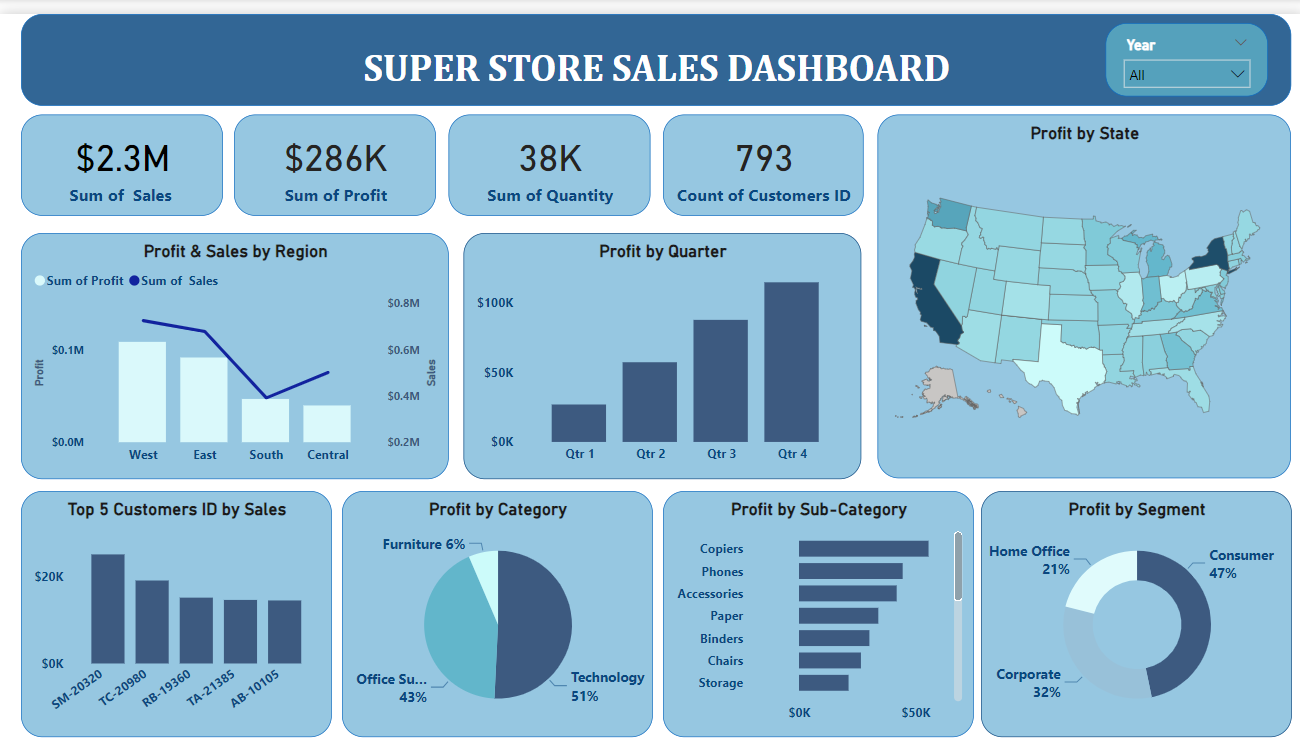

The page's visual inventory and layout, read from the dashboard file:
{"tool":"powerbi","page":{"name":"Duplicate of Page 1","canvas":[1280,720],"ordinal":0},"visuals":[{"type":"pieChart","title":"Profit by Category","fields":{"Y":["Sum(Sheet1.Profit)"],"Category":["Sheet1.Category"]},"box":[334.9,467.1,304.7,241.4],"z":0},{"type":"textbox","box":[20.6,0,1245.6,89.7],"z":1000},{"type":"shapeMap","title":"Profit by State","fields":{"Value":["Sum(Sheet1.Profit)"],"Category":["Sheet1.State"]},"box":[860.8,99.2,405.3,356.4],"z":2000},{"type":"donutChart","title":"Profit by Segment","fields":{"Y":["Sum(Sheet1.Profit)"],"Category":["Sheet1.Segment"]},"box":[961.4,467.1,304.7,241.4],"z":3000},{"type":"lineClusteredColumnComboChart","title":"Profit & Sales  by Region","fields":{"Y":["Sum(Sheet1.Profit)"],"Category":["Sheet1.Region"],"Y2":["Sum(Sheet1. Sales )"]},"box":[20.1,214.1,419.6,241.4],"z":4000},{"type":"clusteredBarChart","title":"Profit by Sub-Category","fields":{"Y":["Sum(Sheet1.Profit)"],"Category":["Sheet1.SubCategory"]},"box":[649.6,467.1,304.7,241.4],"z":5000},{"type":"slicer","fields":{"Values":["Sheet1.OrderDate.Variation.Date Hierarchy.Year"]},"box":[1083.6,8.6,159.5,71.9],"z":6000},{"type":"card","fields":{"Values":["Sum(Sheet1. Sales )"]},"box":[20.1,99.2,198.3,99.2],"z":7000},{"type":"card","fields":{"Values":["Sum(Sheet1.Profit)"]},"box":[229.9,99.2,198.3,99.2],"z":8000},{"type":"card","fields":{"Values":["Count(Sheet1.CustomerID)"]},"box":[649.6,99.2,196.9,99.2],"z":9000},{"type":"card","fields":{"Values":["Sum(Sheet1.Quantity)"]},"box":[439.8,99.2,198.3,99.2],"z":10000},{"type":"clusteredColumnChart","title":"Profit by Quarter","fields":{"Y":["Sum(Sheet1.Profit)"],"Category":["Sheet1.OrderDate.Variation.Date Hierarchy.Quarter"]},"box":[454.4,214.7,389.7,241.2],"z":11000},{"type":"lineClusteredColumnComboChart","title":"Top 5 Customers ID by Sales","fields":{"Category":["Sheet1.CustomerID"],"Y":["Sum(Sheet1. Sales )"]},"box":[20.1,467.1,304.7,241.4],"z":12000}]}

Visuals, with their boxes in screenshot pixels (x1, y1, x2, y2), scaled from the page's 1280x720 canvas onto the 1300x747 screenshot:
"Profit by Category" pieChart: x1=340, y1=485, x2=650, y2=735
textbox: x1=21, y1=0, x2=1286, y2=93
"Profit by State" shapeMap: x1=874, y1=103, x2=1286, y2=473
"Profit by Segment" donutChart: x1=976, y1=485, x2=1286, y2=735
"Profit & Sales  by Region" lineClusteredColumnComboChart: x1=20, y1=222, x2=447, y2=473
"Profit by Sub-Category" clusteredBarChart: x1=660, y1=485, x2=969, y2=735
slicer - Sheet1.OrderDate.Variation.Date Hierarchy.Year: x1=1101, y1=9, x2=1263, y2=84
card - Sum(Sheet1. Sales ): x1=20, y1=103, x2=222, y2=206
card - Sum(Sheet1.Profit): x1=233, y1=103, x2=435, y2=206
card - Count(Sheet1.CustomerID): x1=660, y1=103, x2=860, y2=206
card - Sum(Sheet1.Quantity): x1=447, y1=103, x2=648, y2=206
"Profit by Quarter" clusteredColumnChart: x1=462, y1=223, x2=857, y2=473
"Top 5 Customers ID by Sales" lineClusteredColumnComboChart: x1=20, y1=485, x2=330, y2=735
